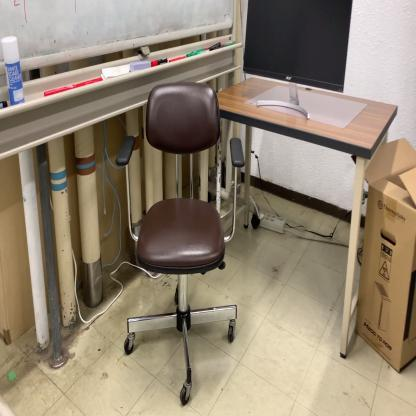chair: (115, 79, 246, 405)
